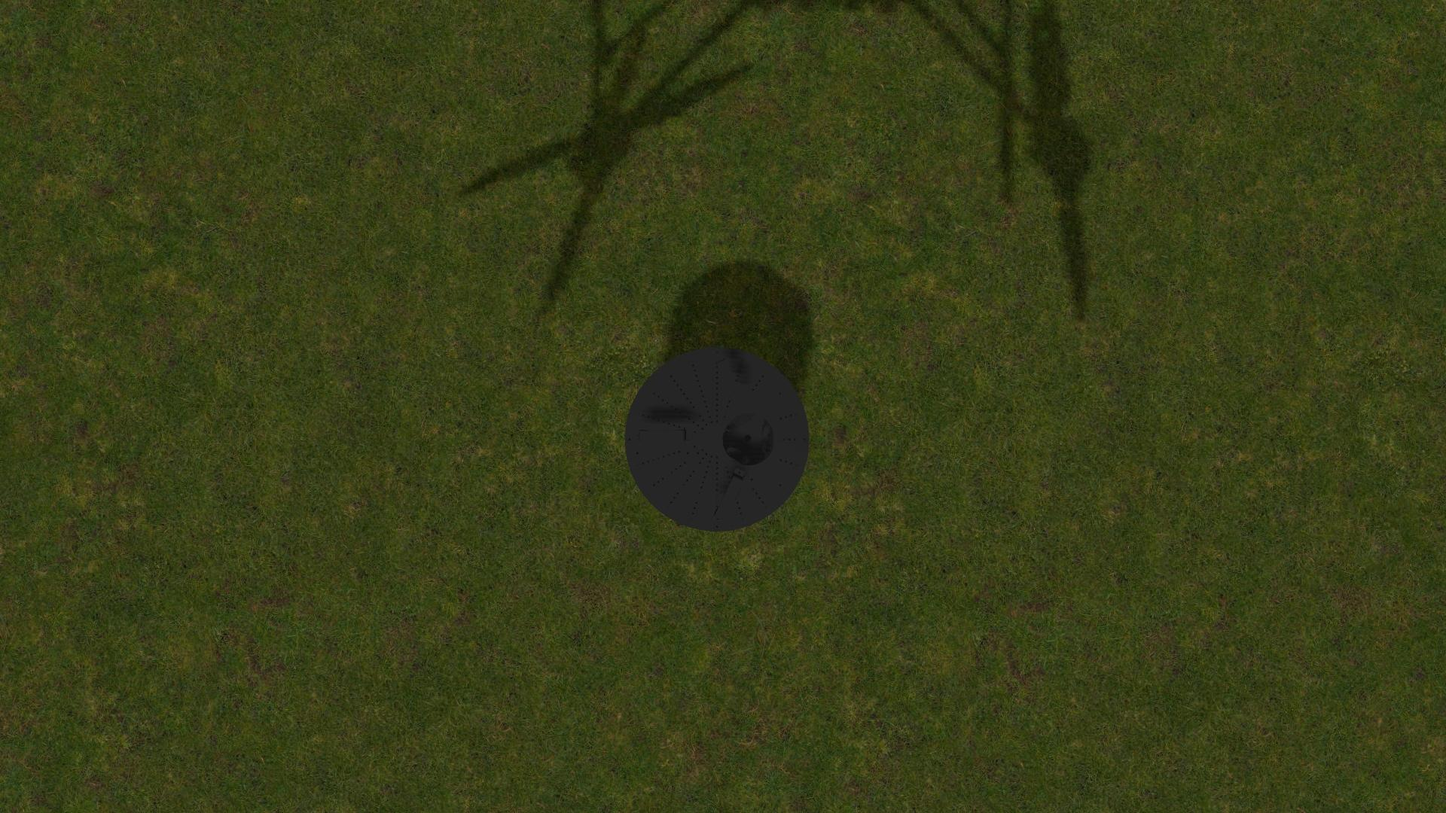alca: (712, 468, 745, 524), (714, 354, 746, 409), (634, 429, 692, 442)
armadilha: (624, 347, 809, 532)
